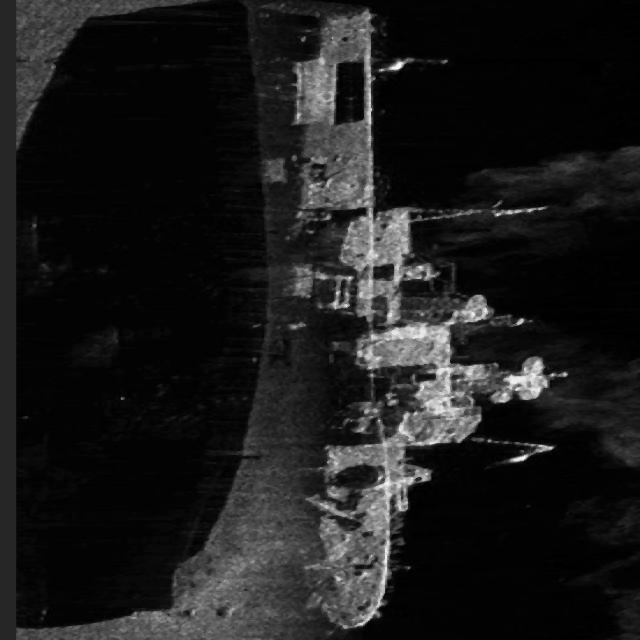Ship: (17, 0, 640, 640)
